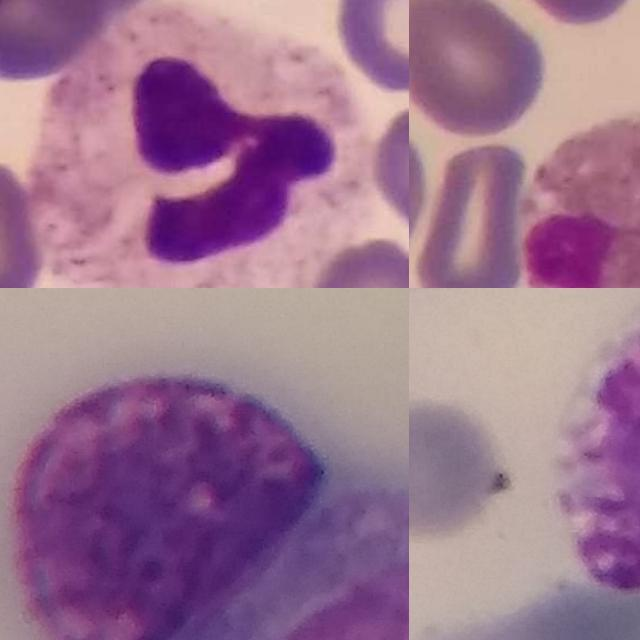Basophil: (6, 369, 328, 640), (557, 289, 640, 600)
Eosinophil: (523, 109, 640, 288)
Lymphocyte: (132, 479, 409, 640)
Neutrophil: (33, 10, 361, 288)
